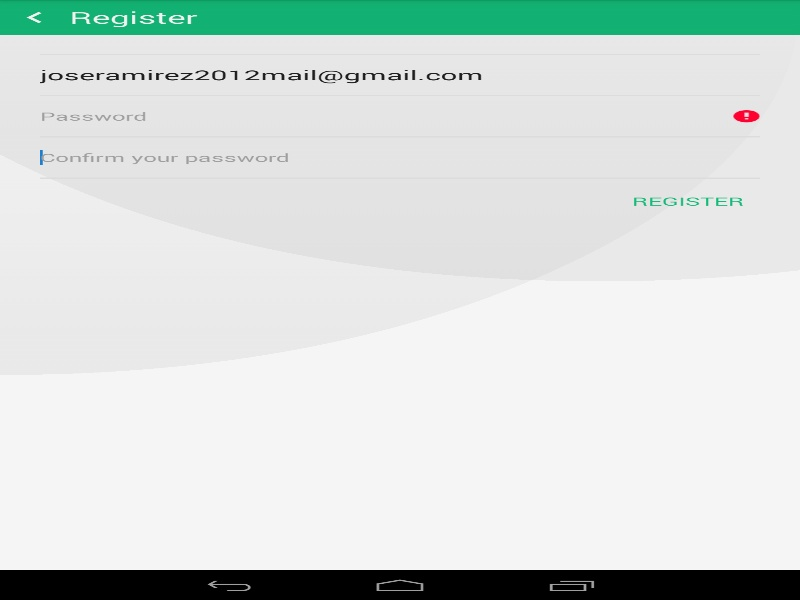Button: (616, 178, 760, 223)
Input: (40, 96, 760, 136), (40, 137, 760, 177)
